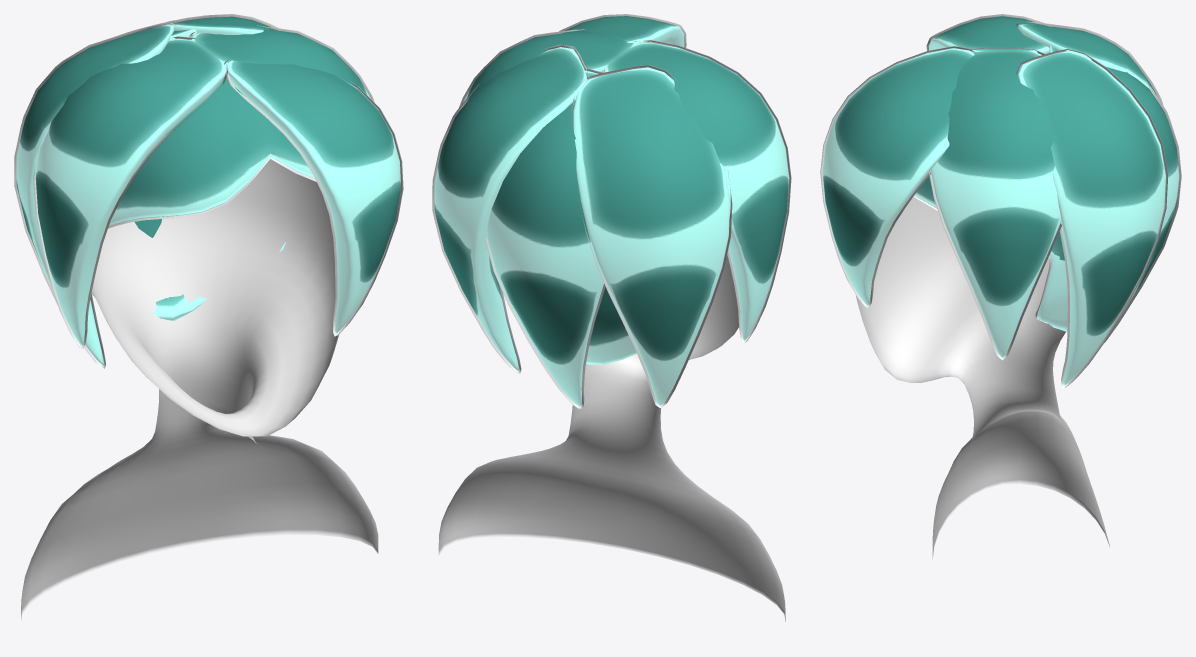
The model's file is Hair.glb.
3 renders of one model, left to right at view 1: azimuth 30°, elevation 25°; view 2: azimuth 150°, elevation 25°; view 3: azimuth 270°, elevation 25°, orthographic. The views are drawn at different scales.
Parts seen in each view (by area): view 1: body_8, og_side_7, front_6, base_5, back_side_4; view 2: back_side_4, body_8, og_side_7, back_3, front_6, base_5; view 3: body_8, back_side_4, og_side_7, front_6, back_3, base_5.
Part boxes in pixels (x1=…): body_8: x1=21, y1=159, x2=378, y2=621; og_side_7: x1=33, y1=25, x2=374, y2=349; front_6: x1=224, y1=59, x2=403, y2=336; base_5: x1=91, y1=77, x2=316, y2=320; back_side_4: x1=14, y1=14, x2=278, y2=368; back_side_4: x1=432, y1=44, x2=732, y2=407; body_8: x1=438, y1=255, x2=785, y2=621; og_side_7: x1=459, y1=29, x2=791, y2=343; back_3: x1=484, y1=68, x2=605, y2=408; front_6: x1=559, y1=14, x2=686, y2=47; base_5: x1=586, y1=287, x2=636, y2=364; body_8: x1=856, y1=197, x2=1109, y2=560; back_side_4: x1=1016, y1=21, x2=1168, y2=388; og_side_7: x1=926, y1=14, x2=1061, y2=360; front_6: x1=820, y1=46, x2=976, y2=307; back_3: x1=1049, y1=45, x2=1181, y2=342; base_5: x1=913, y1=176, x2=1067, y2=331.
Size of what is drawn, in the model's own units: 0.4447 by 0.6786 by 0.4274.
